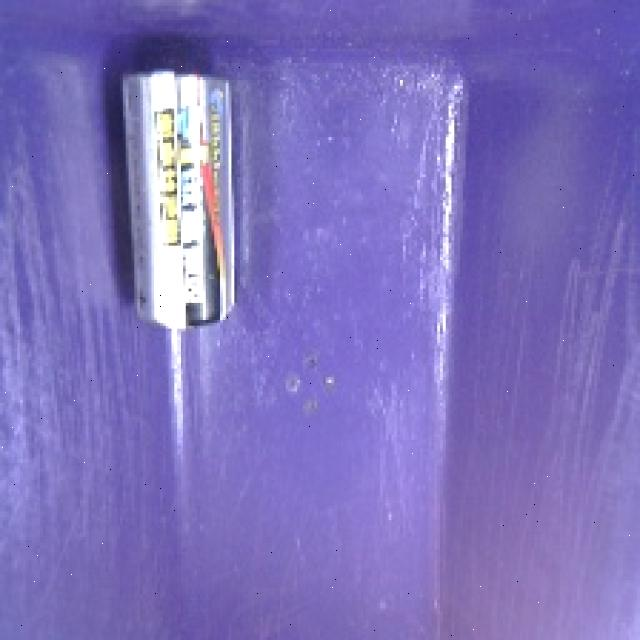battery: (103, 44, 244, 339)
